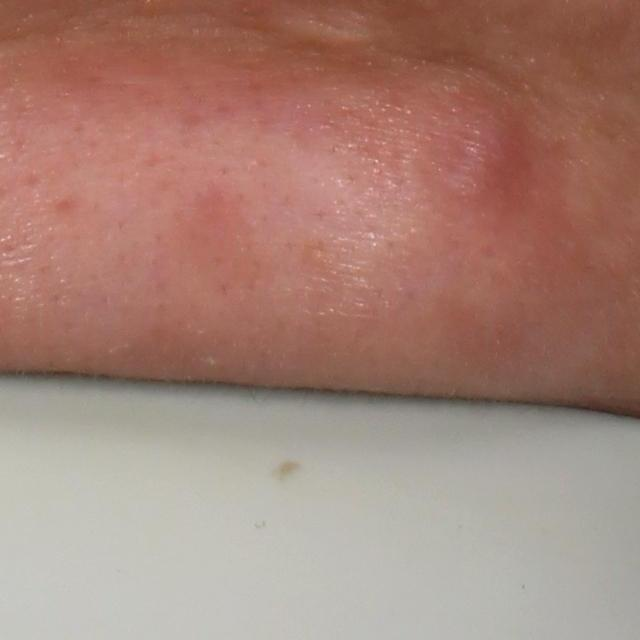hypertrophic_scar: (275, 7, 375, 48)
